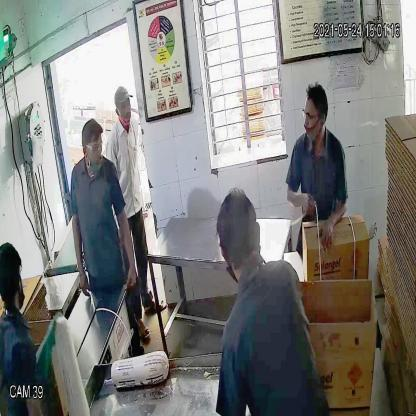goggles: (298, 104, 326, 124), (80, 139, 106, 157)
no_goggles: (113, 99, 134, 114)
